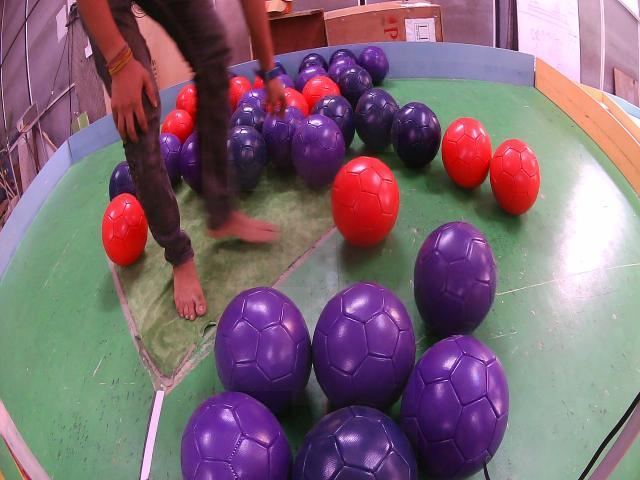jambhalya: (401, 337, 509, 478), (313, 282, 415, 408), (215, 287, 311, 413), (182, 392, 292, 479), (415, 221, 497, 336), (291, 115, 345, 186), (261, 106, 305, 166), (180, 132, 202, 193), (160, 133, 182, 187), (358, 46, 388, 84), (296, 65, 327, 93), (328, 57, 357, 83), (237, 88, 267, 112), (279, 74, 296, 88)
kaalyya: (292, 405, 418, 480), (392, 102, 441, 168), (355, 88, 398, 152), (227, 125, 267, 191), (311, 95, 355, 148), (338, 65, 372, 111), (109, 161, 136, 200), (230, 104, 266, 133), (300, 54, 328, 72), (330, 50, 358, 65)
